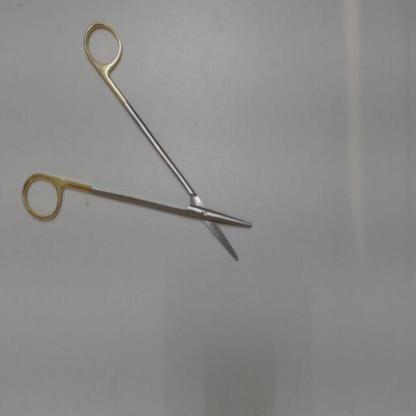7 Metzenbaum Scissors: (20, 19, 252, 262)
